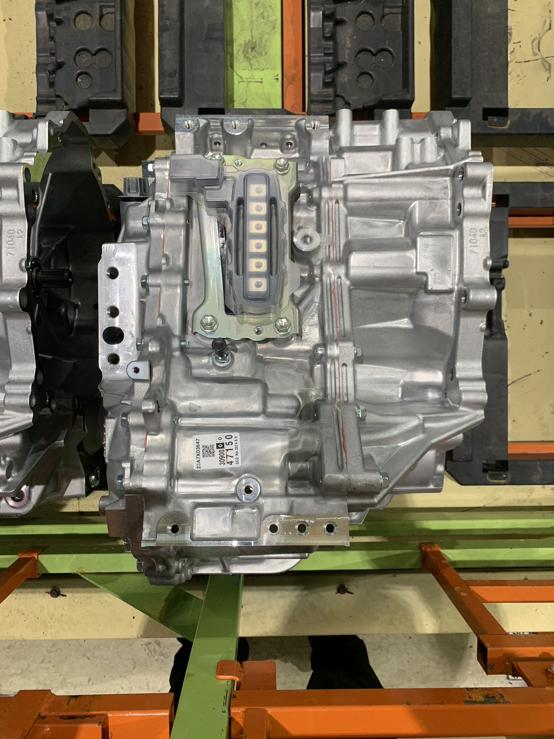gearbox_type3: (88, 103, 499, 597)
gearbox_type3_FP1: (235, 166, 282, 315)
gearbox_type3_FP2: (234, 472, 262, 506)
gearbox_type3_FP3: (94, 238, 140, 404)
